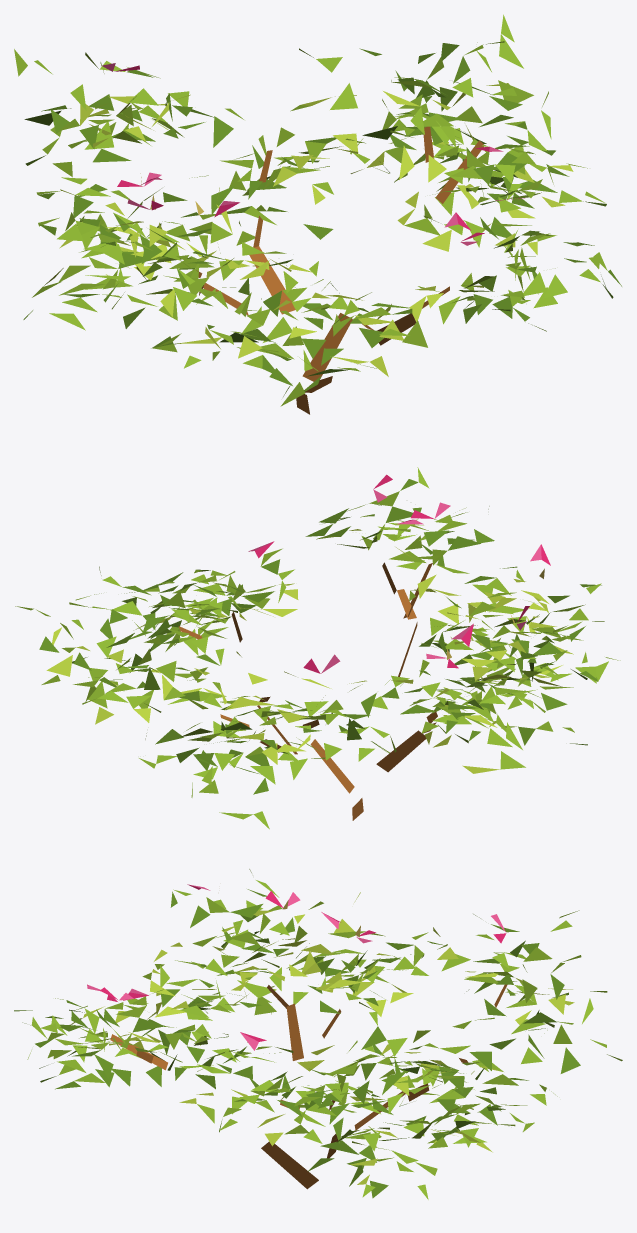
The model's file is lod_nmg_shrub_flor.glb.
The picture shows the model from 3 angles, top to bottom: view 1: azimuth 30°, elevation 25°; view 2: azimuth 150°, elevation 25°; view 3: azimuth 270°, elevation 25°; orthographic projection. The views are drawn at different scales.
Visible parts, largest first — view 1: nmg_shrub_flor; view 2: nmg_shrub_flor; view 3: nmg_shrub_flor.
Part boxes in pixels (x1,y1,x2,y2): nmg_shrub_flor: (14, 14, 621, 414); nmg_shrub_flor: (15, 467, 620, 829); nmg_shrub_flor: (14, 869, 622, 1199).
Size of the model in its own units: 1.81 by 0.932 by 1.95.
